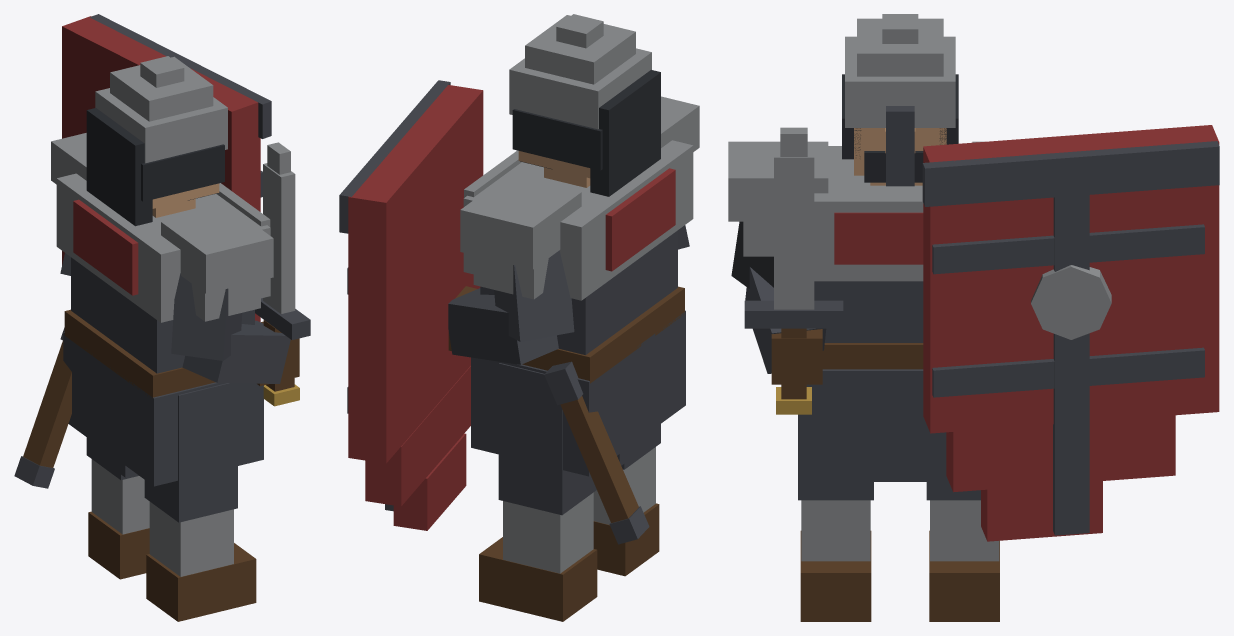
The model's file is shieldman.glb.
3 views of the same model, side by side, from view 1: azimuth 30°, elevation 25°; view 2: azimuth 150°, elevation 25°; view 3: azimuth 270°, elevation 25° (orthographic). The views are drawn at different scales.
Parts seen in each view (by area): view 1: Cube.044, Cube.004, Cube.011, Cube.012, Cube.042, Cube.010, Cube.007, Cube.031, Cube.027, Cube.006, Cube.040, Cube.054 (+22 smaller); view 2: Cube.044, Cube, Cube.011, Cube.037, Cube.010, Cube.003, Cube.031, Cube.045, Cube.014, Cube.027, Cube.002, Cube.035 (+20 smaller); view 3: Cube.044, Cube.047, Cube.045, Cube.050, Cube.049, Cube.048, Cube.013, Cube.054, Cube.027, Cube.012, Cube.010, Cube.015 (+25 smaller).
Boxes of the visible parts, <box> form: Cube.044: <box>62,16,260,321</box>; Cube.004: <box>144,383,237,522</box>; Cube.011: <box>56,173,270,322</box>; Cube.012: <box>124,377,263,486</box>; Cube.042: <box>161,205,273,293</box>; Cube.010: <box>71,257,254,373</box>; Cube.007: <box>146,543,256,621</box>; Cube.031: <box>86,108,152,226</box>; Cube.027: <box>95,88,227,163</box>; Cube.006: <box>149,501,233,576</box>; Cube.040: <box>182,320,290,383</box>; Cube.054: <box>263,163,295,313</box>; Cube.044: <box>348,85,483,463</box>; Cube: <box>498,363,596,515</box>; Cube.011: <box>463,140,693,300</box>; Cube.037: <box>460,174,581,269</box>; Cube.010: <box>480,230,677,354</box>; Cube.003: <box>479,537,597,621</box>; Cube.031: <box>590,70,660,196</box>; Cube.045: <box>365,366,470,506</box>; Cube.014: <box>471,357,621,476</box>; Cube.027: <box>509,48,651,129</box>; Cube.002: <box>503,492,593,573</box>; Cube.035: <box>448,288,558,364</box>; Cube.044: <box>923,125,1219,433</box>; Cube.047: <box>922,141,1219,206</box>; Cube.045: <box>946,415,1175,492</box>; Cube.050: <box>1053,195,1089,535</box>; Cube.049: <box>932,224,1204,274</box>; Cube.048: <box>932,347,1204,397</box>; Cube.013: <box>863,369,937,481</box>; Cube.054: <box>774,150,814,309</box>; Cube.027: <box>845,36,955,127</box>; Cube.012: <box>799,369,866,468</box>; Cube.010: <box>814,281,923,342</box>; Cube.015: <box>834,212,923,264</box>.
Bounding box in the file's own units: 9.49 × 21.15 × 16.42.
